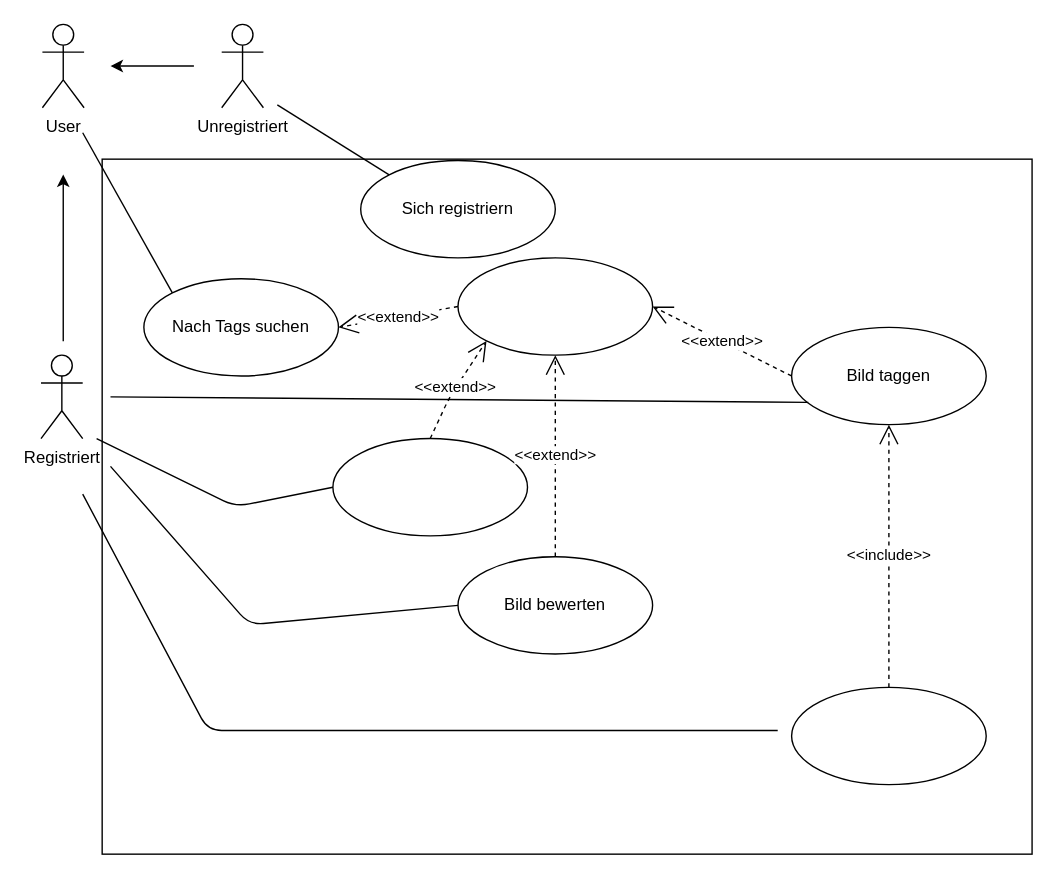
This 1056x878 diagram has some shape labels left out. The centre of each missing label's shape, as x and y in pixels:
Bild ansehen: (555,305)
Bild favoritisiern: (430,486)
Bild hochladen: (888,735)
